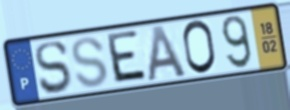9: (219, 13, 255, 70)
A: (146, 23, 189, 84)
E: (106, 28, 150, 86)
O: (181, 18, 219, 76)
S: (33, 39, 73, 97), (70, 35, 110, 90)
